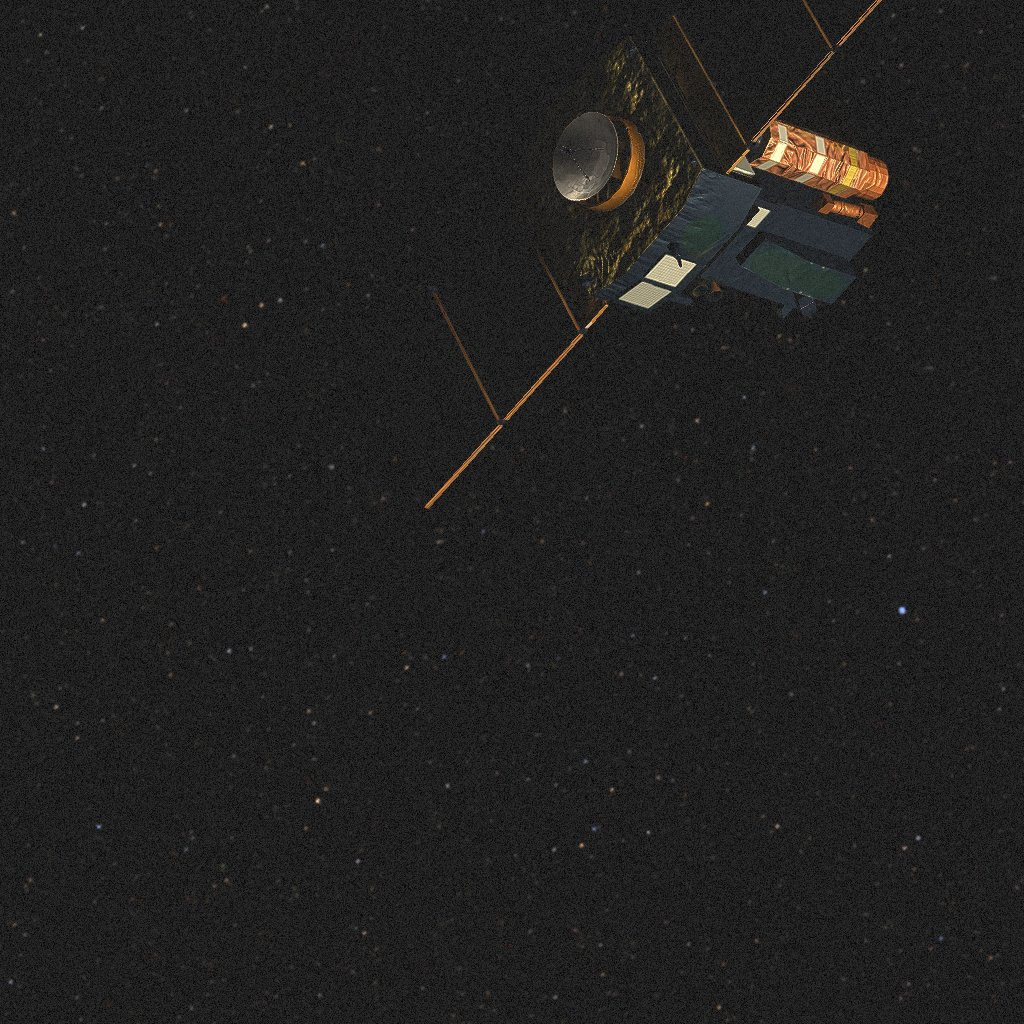soho: (359, 0, 889, 509)
